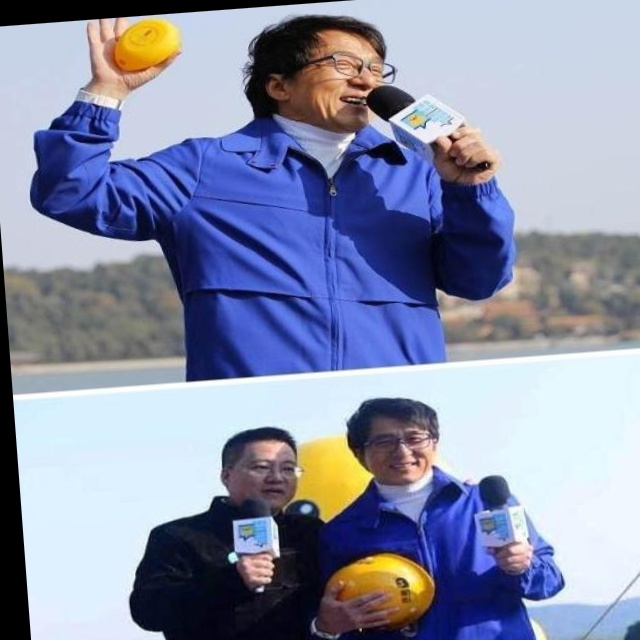Sin_Casco_Mascarrilla: (241, 0, 406, 134), (214, 423, 308, 497)
Sin_Chaleco: (328, 466, 550, 640), (145, 502, 334, 640)
